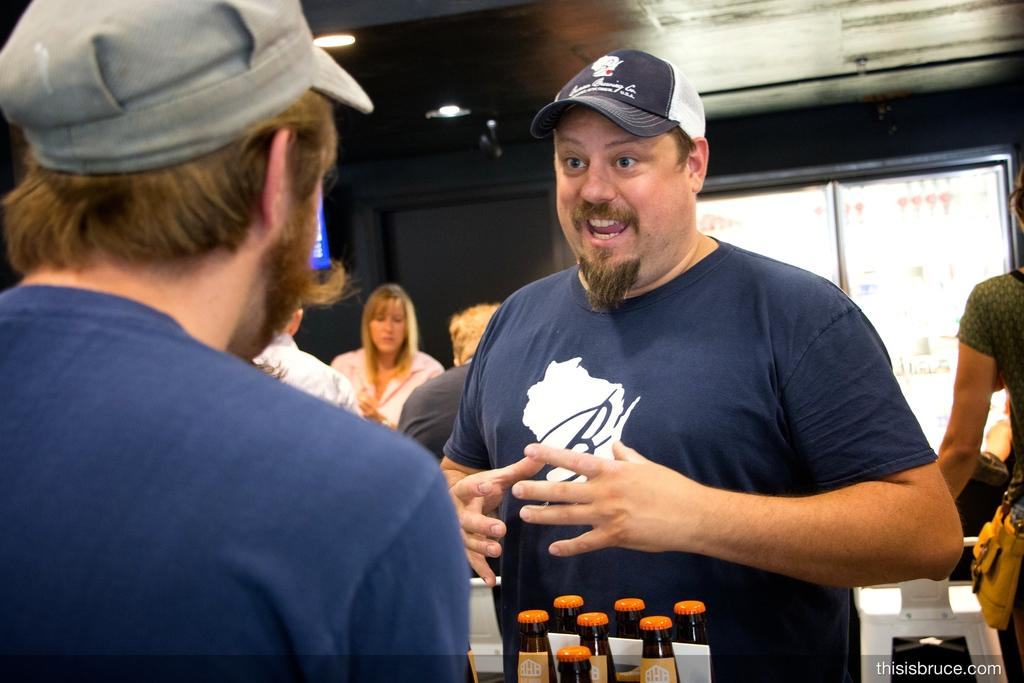Hat: (0, 0, 373, 174), (534, 46, 703, 144)
